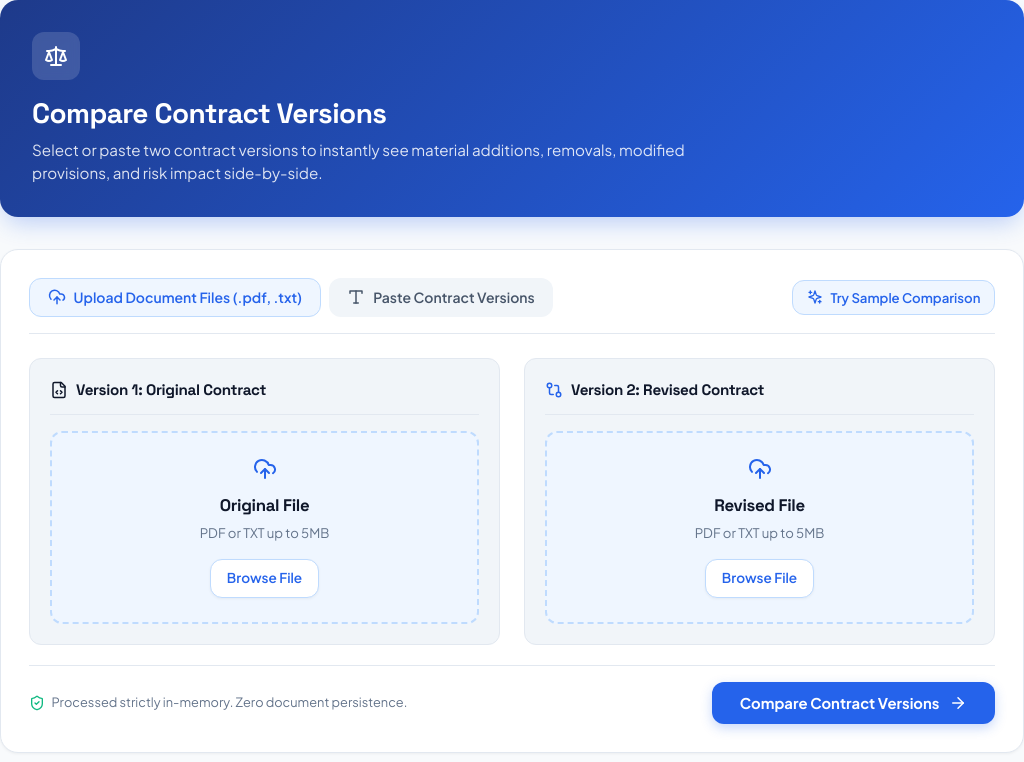
Scenario: Frontend Edge Cases, Error States, and Loading States › Empty Input Handling › validates empty original or revised inputs in DocumentComparison paste tab
This screenshot has width=1024, height=762.
Click the button "Paste Contract Versions" at [441, 297], box [329, 278, 553, 317]
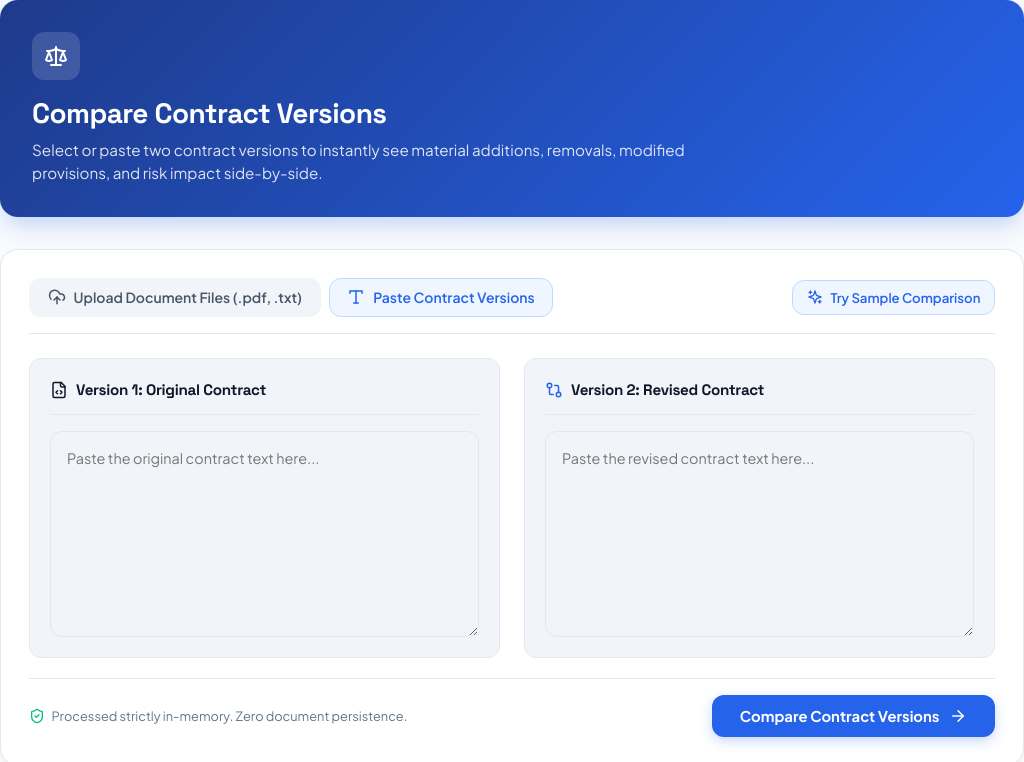
Type "Valid original contract text with sufficient characters." into the text box with placeholder "Paste the original contract text here..." at [264, 534], box [50, 431, 479, 637]
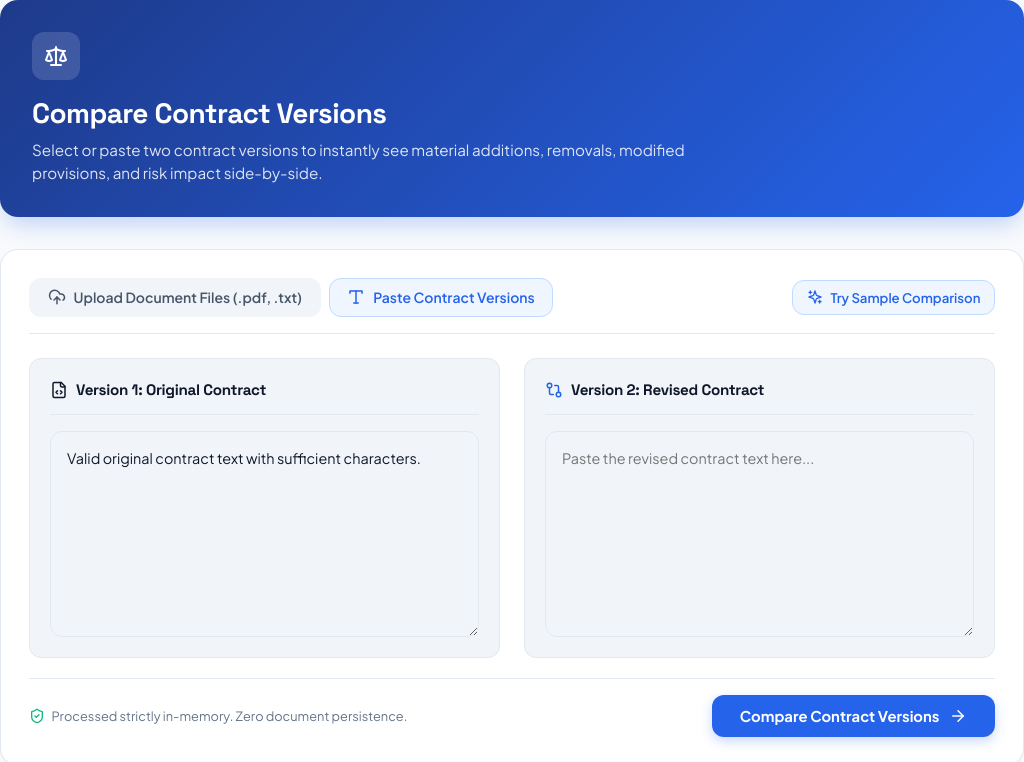
Click the button "Compare Contract Versions" at [853, 716], box [712, 695, 995, 737]
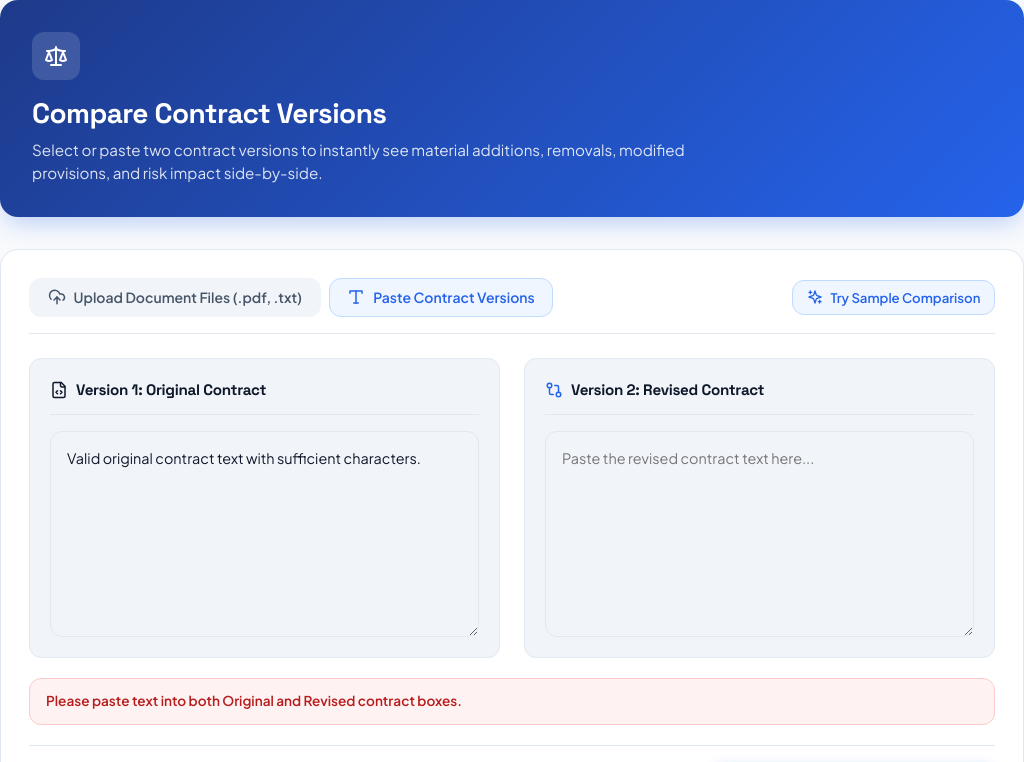
Now the message shows "Please paste text into both Original and Revised", box [46, 692, 462, 709]
